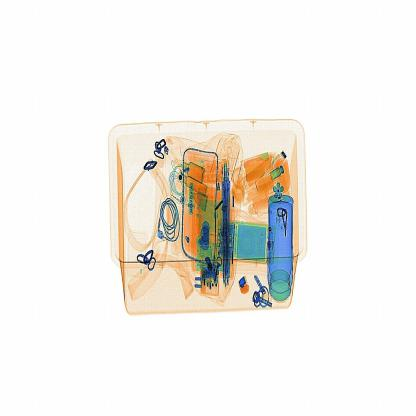wrench: (237, 270, 256, 300)
